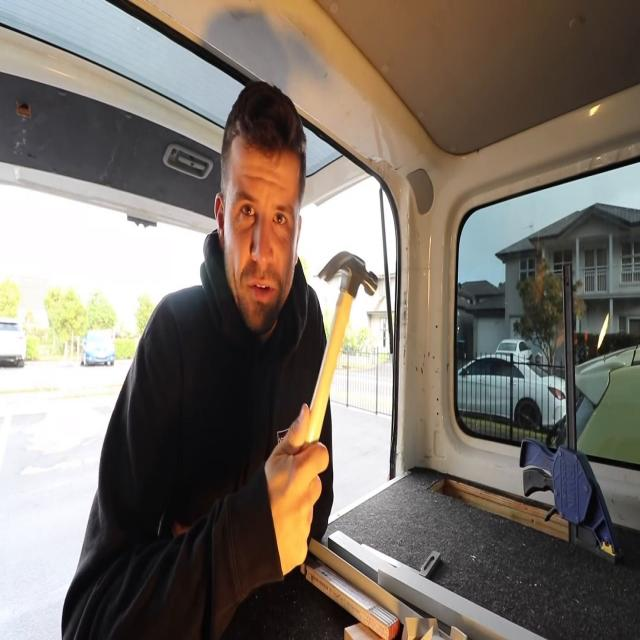hammer: (301, 251, 378, 450)
